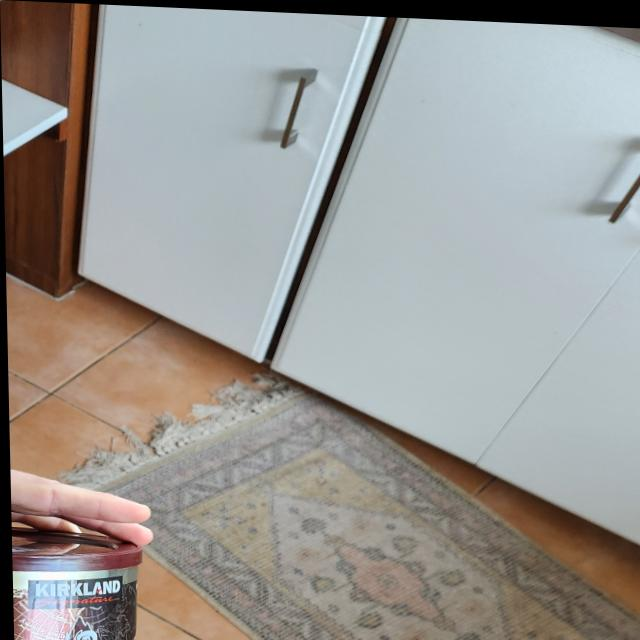coffee: (9, 528, 128, 640)
